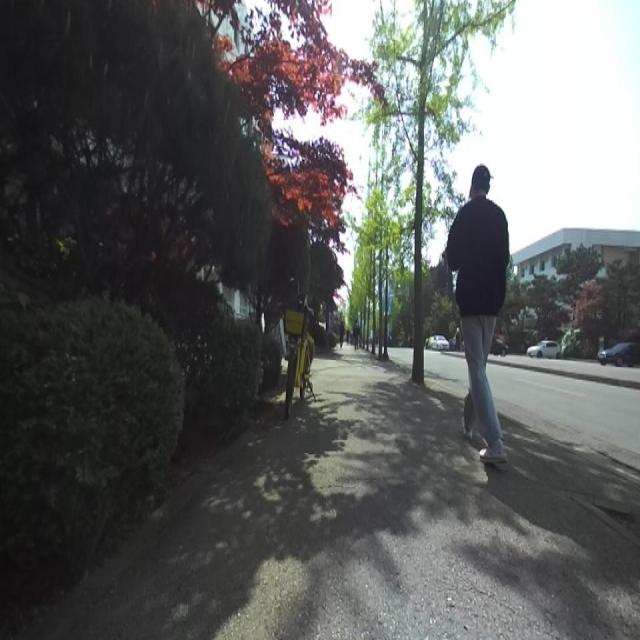sidewalk: (29, 348, 640, 639)
